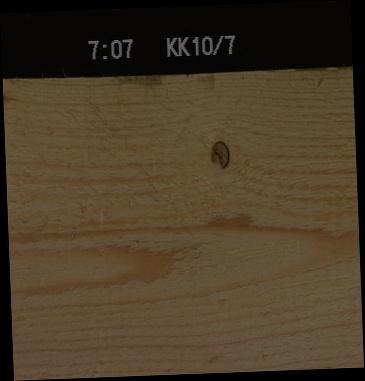dry_knot: (209, 139, 230, 170)
